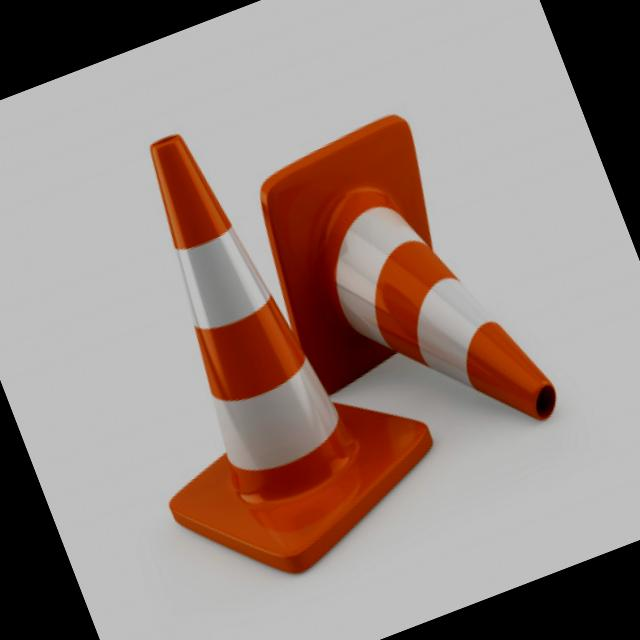cone: (17, 60, 460, 609)
